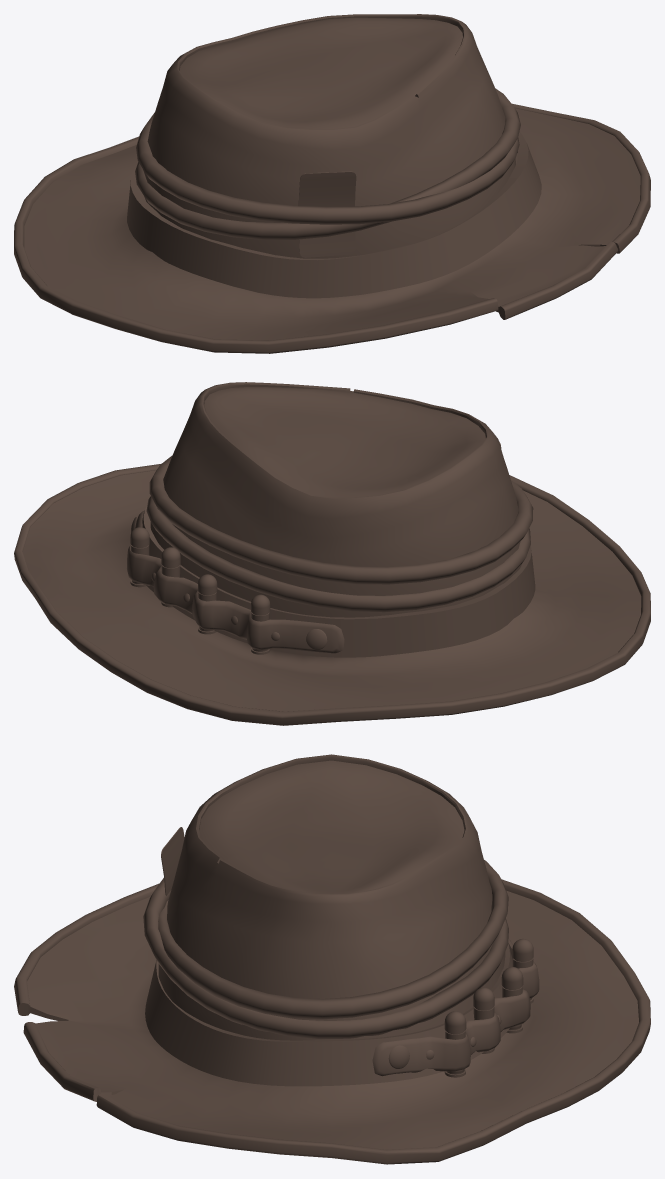
The model's file is SM_Hat_Bullets.fbx.
3 renders of one model, top to bottom at view 1: azimuth 30°, elevation 25°; view 2: azimuth 150°, elevation 25°; view 3: azimuth 270°, elevation 25°, orthographic. The views are drawn at different scales.
Parts seen in each view (by area): view 1: SM_Hat_Bullets; view 2: SM_Hat_Bullets; view 3: SM_Hat_Bullets.
Boxes of the visible parts, x1,y1,x2,y2 form: SM_Hat_Bullets: (14,14,650,353); SM_Hat_Bullets: (14,382,650,725); SM_Hat_Bullets: (14,754,650,1164).
Size of the model in its own units: 0.4866 by 0.1494 by 0.4184.
